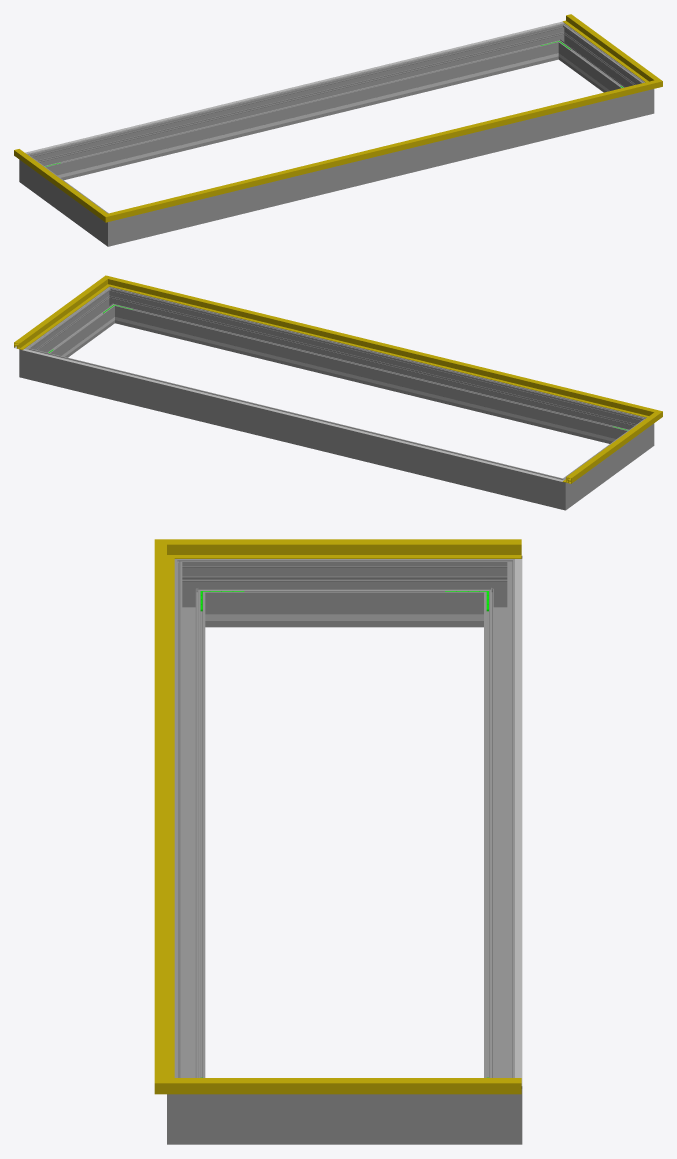
3 views of the same model, one above another, from view 1: azimuth 30°, elevation 25°; view 2: azimuth 150°, elevation 25°; view 3: azimuth 270°, elevation 25° (orthographic). The views are drawn at different scales.
Visible parts, largest first — view 1: 3DGeom-278, 3DGeom-300, 3DGeom-123, 3DGeom-299, 3DGeom-246, 3DGeom-270, 3DGeom-222, 3DGeom-128, 3DGeom-118, 3DGeom-272, 3DGeom-286, 3DGeom-292 (+1 smaller); view 2: 3DGeom-300, 3DGeom-278, 3DGeom-123, 3DGeom-299, 3DGeom-241, 3DGeom-270, 3DGeom-222, 3DGeom-128, 3DGeom-118, 3DGeom-280, 3DGeom-286, 3DGeom-292 (+1 smaller); view 3: 3DGeom-270, 3DGeom-300, 3DGeom-278, 3DGeom-299, 3DGeom-123, 3DGeom-118, 3DGeom-128, 3DGeom-222, 3DGeom-286, 3DGeom-292, 3DGeom-280, 3DGeom-272 (+3 smaller).
Part boxes in pixels (bbox=[...]): 3DGeom-278: bbox=[41, 27, 555, 180]; 3DGeom-300: bbox=[128, 93, 634, 241]; 3DGeom-123: bbox=[123, 84, 642, 217]; 3DGeom-299: bbox=[560, 30, 639, 92]; 3DGeom-246: bbox=[64, 58, 539, 176]; 3DGeom-270: bbox=[30, 161, 102, 238]; 3DGeom-222: bbox=[25, 21, 563, 153]; 3DGeom-128: bbox=[562, 14, 651, 79]; 3DGeom-118: bbox=[14, 149, 99, 213]; 3DGeom-272: bbox=[96, 209, 127, 246]; 3DGeom-286: bbox=[547, 23, 573, 60]; 3DGeom-292: bbox=[634, 78, 654, 118]; 3DGeom-300: bbox=[118, 291, 632, 443]; 3DGeom-278: bbox=[39, 351, 548, 505]; 3DGeom-123: bbox=[121, 280, 642, 415]; 3DGeom-299: bbox=[34, 294, 112, 357]; 3DGeom-241: bbox=[134, 321, 608, 440]; 3DGeom-270: bbox=[571, 424, 642, 501]; 3DGeom-222: bbox=[22, 349, 563, 481]; 3DGeom-128: bbox=[14, 284, 102, 349]; 3DGeom-118: bbox=[562, 418, 651, 483]; 3DGeom-280: bbox=[545, 473, 577, 510]; 3DGeom-286: bbox=[19, 342, 42, 381]; 3DGeom-292: bbox=[99, 286, 125, 324]; 3DGeom-270: bbox=[213, 559, 476, 627]; 3DGeom-300: bbox=[174, 575, 205, 1077]; 3DGeom-278: bbox=[484, 575, 514, 1077]; 3DGeom-299: bbox=[213, 1094, 476, 1144]; 3DGeom-123: bbox=[154, 559, 174, 1074]; 3DGeom-118: bbox=[200, 539, 521, 558]; 3DGeom-128: bbox=[200, 1078, 521, 1094]; 3DGeom-222: bbox=[515, 559, 522, 1085]; 3DGeom-286: bbox=[476, 1069, 522, 1144]; 3DGeom-292: bbox=[167, 1069, 212, 1144]; 3DGeom-280: bbox=[476, 556, 522, 627]; 3DGeom-272: bbox=[174, 559, 212, 627].
Bounding box in the file's own units: 4.27 × 0.2434 × 1.22.
